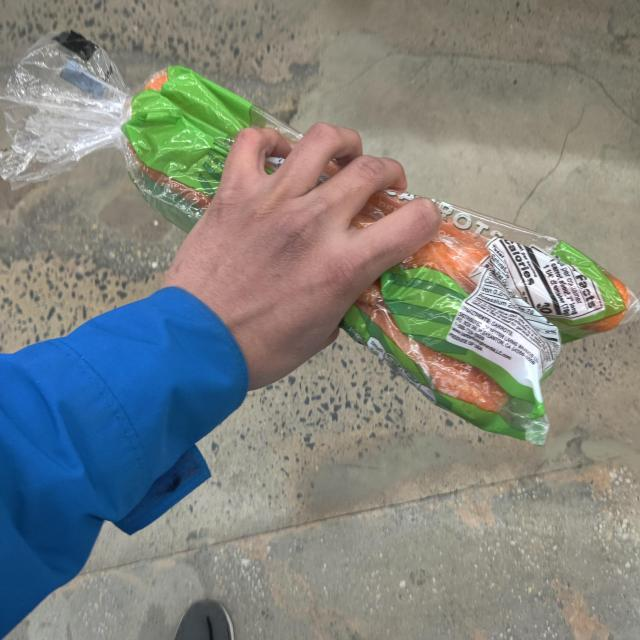Carrots: (5, 32, 640, 450)
